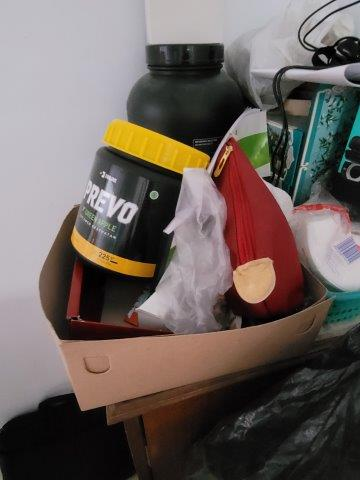plastik: (144, 174, 231, 335)
